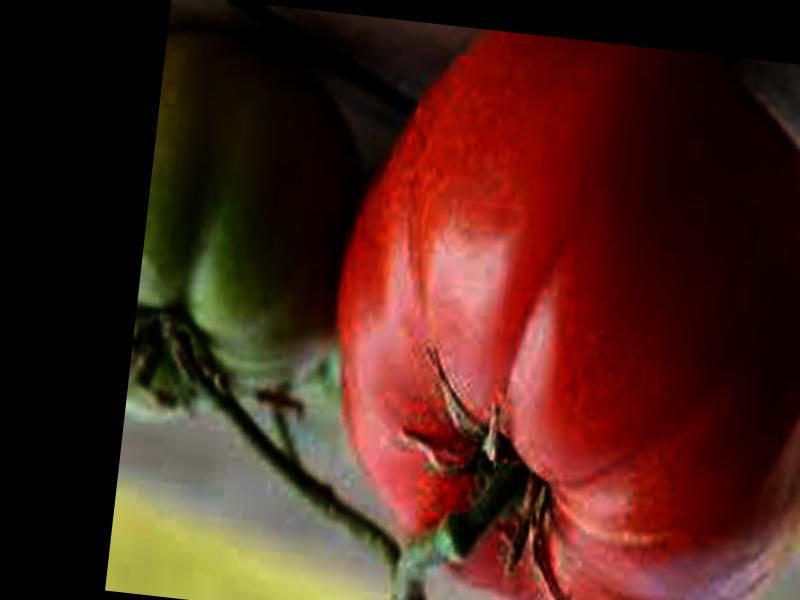Tomato: (306, 16, 800, 600)
